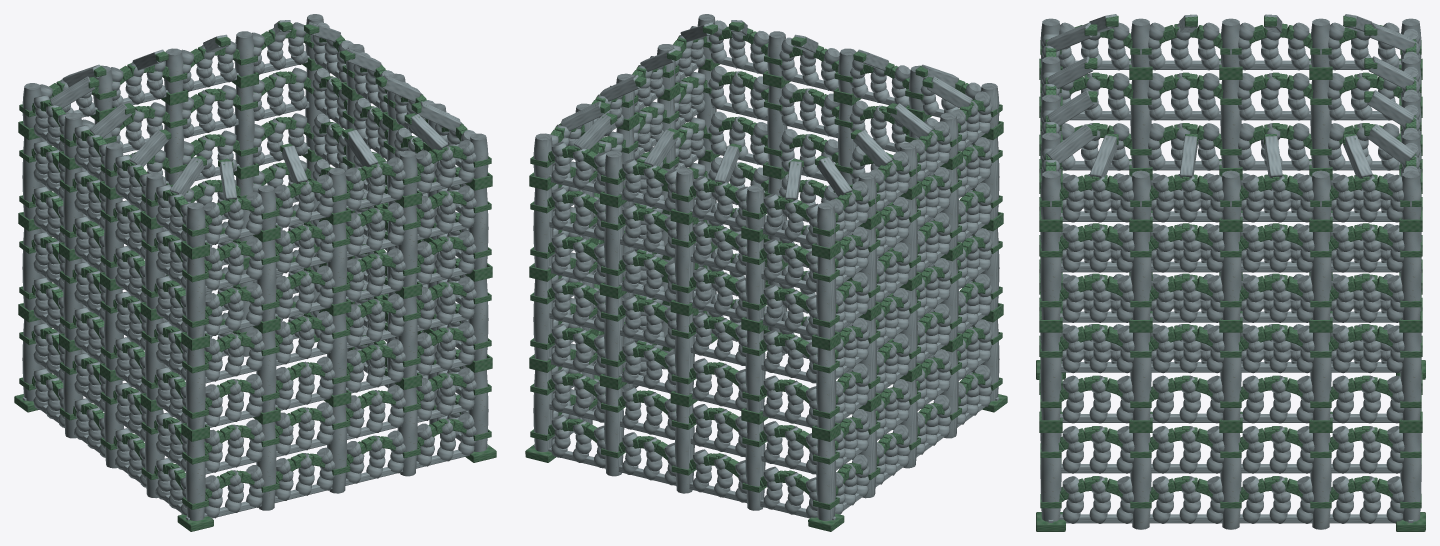
3 views of the same model, side by side, from view 1: azimuth 30°, elevation 25°; view 2: azimuth 150°, elevation 25°; view 3: azimuth 270°, elevation 25° (orthographic). The views are drawn at different scales.
Visible parts, largest first — view 1: Tier 1 side 0 post 0, Tier 0 side 0 post 0, Tier 2 side 0 post 0, Tier 2 side 2 post 1, Tier 2 side 2 post 2, Tier 0 side 0 post 1, Tier 0 side 0 post 3, Tier 0 side 0 post 2, Tier 0 side 1 post 0, Tier 1 side 0 post 3, Tier 2 side 1 post 0, Tier 2 side 0 post 3 (+32 smaller); view 2: Tier 1 side 3 post 0, Tier 0 side 2 post 3, Tier 0 side 3 post 0, Tier 2 side 3 post 0, Tier 0 side 2 post 1, Tier 0 side 2 post 2, Tier 0 side 2 post 0, Tier 2 side 2 post 0, Tier 1 side 2 post 0, Tier 2 side 2 post 3, Tier 1 side 2 post 3, Tier 1 side 2 post 1 (+32 smaller); view 3: Tier 1 side 1 post 0, Tier 0 side 1 post 1, Tier 0 side 1 post 2, Tier 0 side 1 post 3, Tier 0 side 1 post 0, Tier 2 side 1 post 0, Tier 1 side 2 post 0, Tier 0 side 2 post 0, Tier 2 side 2 post 0, Tier 1 side 1 post 1, Tier 1 side 1 post 2, Tier 1 side 1 post 3 (+26 smaller).
Boxes of the visible parts, bbox=[...] form: Tier 1 side 0 post 0: bbox=[185, 348, 205, 430]; Tier 0 side 0 post 0: bbox=[185, 439, 205, 520]; Tier 2 side 0 post 0: bbox=[185, 256, 205, 338]; Tier 2 side 2 post 1: bbox=[234, 85, 254, 167]; Tier 2 side 2 post 2: bbox=[164, 102, 183, 184]; Tier 0 side 0 post 1: bbox=[256, 422, 276, 510]; Tier 0 side 0 post 3: bbox=[397, 387, 417, 476]; Tier 0 side 0 post 2: bbox=[327, 404, 347, 493]; Tier 0 side 1 post 0: bbox=[468, 370, 488, 451]; Tier 1 side 0 post 3: bbox=[397, 296, 417, 378]; Tier 2 side 1 post 0: bbox=[468, 188, 488, 269]; Tier 2 side 0 post 3: bbox=[397, 205, 417, 287]; Tier 1 side 3 post 0: bbox=[816, 348, 836, 430]; Tier 0 side 2 post 3: bbox=[745, 421, 765, 510]; Tier 0 side 3 post 0: bbox=[816, 439, 836, 520]; Tier 2 side 3 post 0: bbox=[816, 256, 836, 338]; Tier 0 side 2 post 1: bbox=[604, 387, 624, 476]; Tier 0 side 2 post 2: bbox=[674, 404, 694, 493]; Tier 0 side 2 post 0: bbox=[533, 370, 553, 451]; Tier 2 side 2 post 0: bbox=[533, 187, 553, 269]; Tier 1 side 2 post 0: bbox=[533, 279, 553, 361]; Tier 2 side 2 post 3: bbox=[745, 239, 765, 321]; Tier 1 side 2 post 3: bbox=[745, 330, 765, 412]; Tier 1 side 2 post 1: bbox=[604, 296, 624, 378]; Tier 1 side 1 post 0: bbox=[1040, 332, 1061, 420]; Tier 0 side 1 post 1: bbox=[1130, 433, 1151, 529]; Tier 0 side 1 post 2: bbox=[1220, 433, 1241, 529]; Tier 0 side 1 post 3: bbox=[1310, 433, 1331, 529]; Tier 0 side 1 post 0: bbox=[1040, 433, 1061, 521]; Tier 2 side 1 post 0: bbox=[1040, 232, 1061, 319]; Tier 1 side 2 post 0: bbox=[1400, 332, 1421, 420]; Tier 0 side 2 post 0: bbox=[1400, 433, 1421, 521]; Tier 2 side 2 post 0: bbox=[1400, 232, 1421, 319]; Tier 1 side 1 post 1: bbox=[1130, 332, 1151, 420]; Tier 1 side 1 post 2: bbox=[1220, 332, 1241, 420]; Tier 1 side 1 post 3: bbox=[1310, 332, 1331, 420].
Bounding box in the file's own units: 1.95 × 2.07 × 1.95.
Materials: 2 (2 with a texture image).
